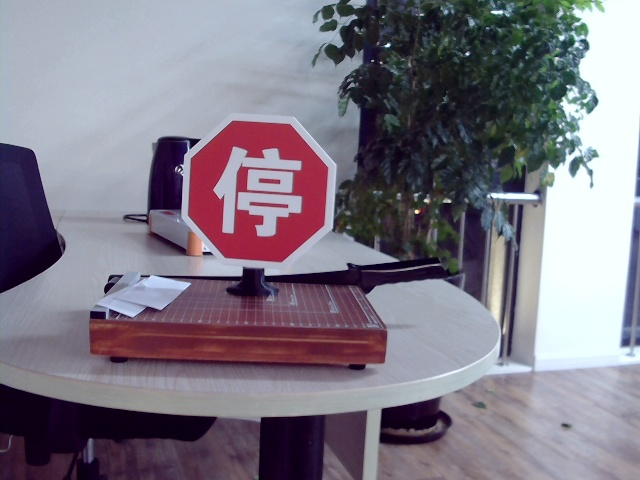stop: (211, 142, 301, 236)
